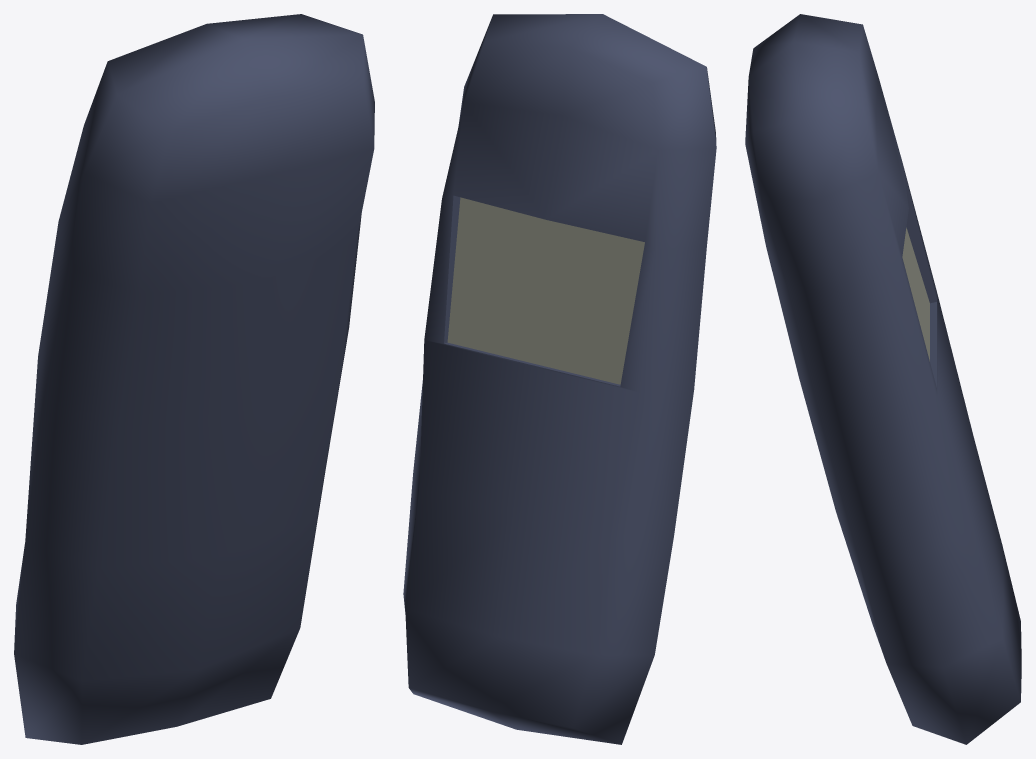
File: phone.fbx
3 views of the same model, side by side, from view 1: azimuth 30°, elevation 25°; view 2: azimuth 150°, elevation 25°; view 3: azimuth 270°, elevation 25° (orthographic). The views are drawn at different scales.
Visible parts, largest first — view 1: Phone; view 2: Phone; view 3: Phone.
Boxes of the visible parts, x1,y1,x2,y2 form: Phone: (14,14,374,744); Phone: (403,14,716,744); Phone: (745,14,1021,744).
Size of the model in its own units: 164 by 384 by 146.
